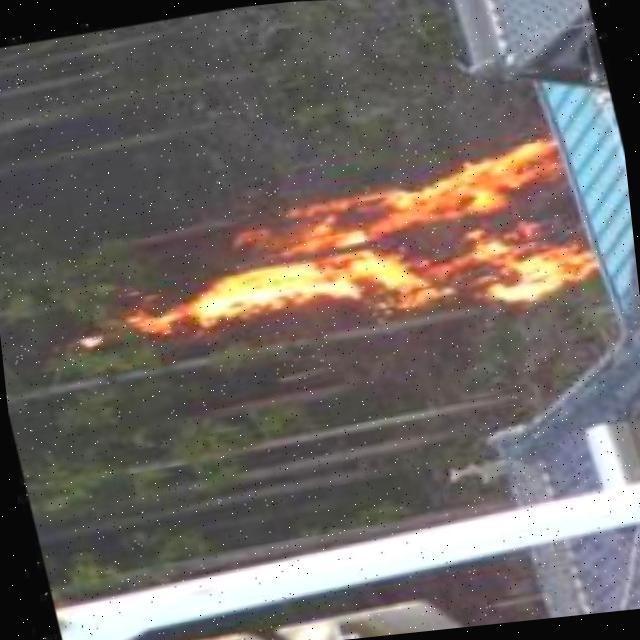fire: (115, 106, 603, 392)
